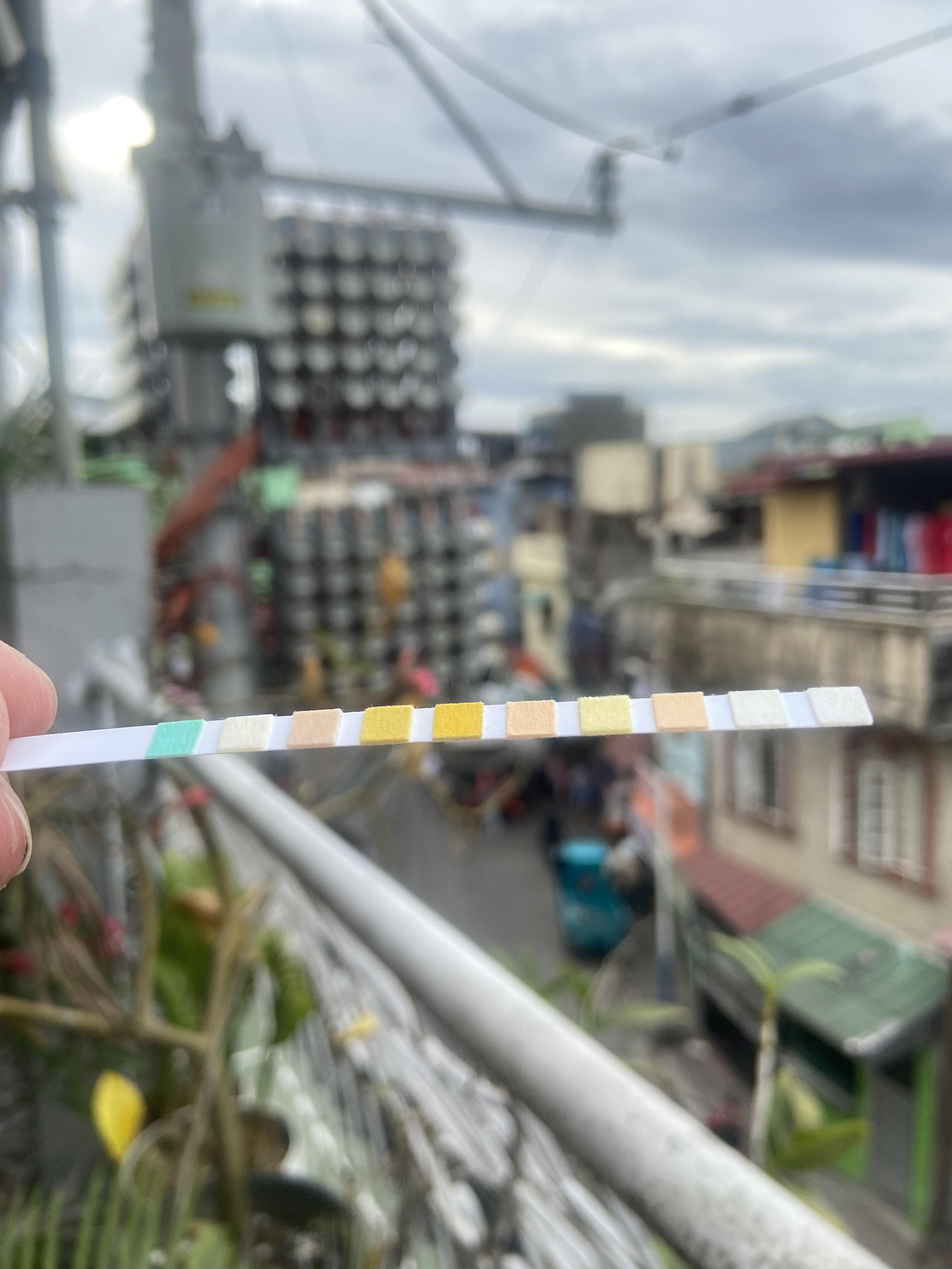Bilirubin: (228, 718, 264, 747)
Blood: (437, 705, 479, 736)
Glucose: (159, 723, 192, 752)
Ketone: (296, 712, 331, 744)
Leukocytes: (824, 688, 860, 721)
Nitrite: (739, 693, 780, 724)
Protein: (583, 699, 628, 730)
SpGravity: (367, 709, 406, 738)
Urobilinogen: (660, 694, 702, 726)
pH: (508, 703, 552, 734)
strip: (11, 687, 873, 770)
